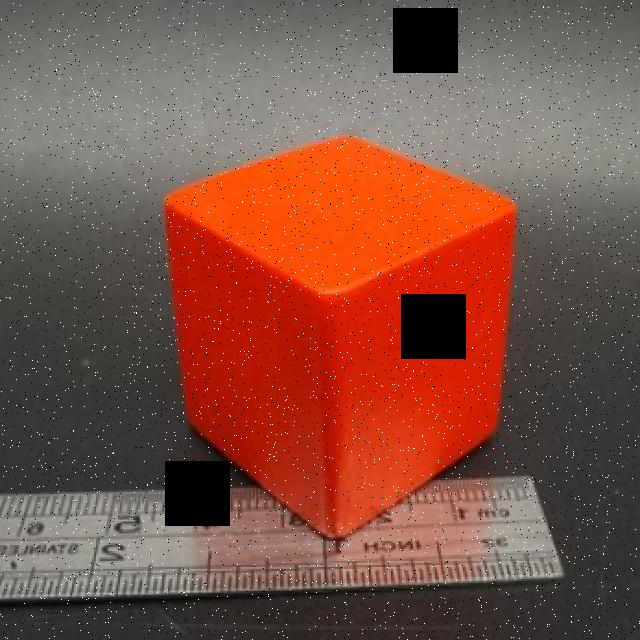red cube: (156, 128, 520, 546)
